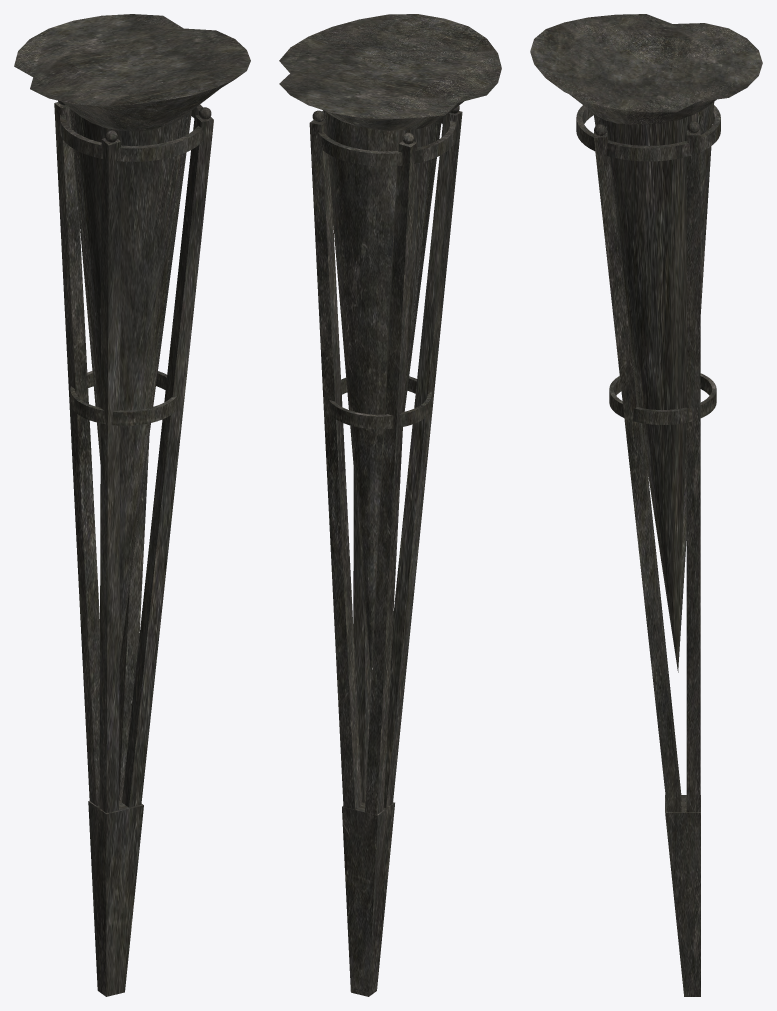
Rendered from Tourch 1.FBX.
3 views of the same model, side by side, from view 1: azimuth 30°, elevation 25°; view 2: azimuth 150°, elevation 25°; view 3: azimuth 270°, elevation 25° (orthographic). The views are drawn at different scales.
Visible parts, largest first — view 1: torch 1; view 2: torch 1; view 3: torch 1.
Boxes of the visible parts, box(x1,y1,x2,y2) form: torch 1: box(14, 14, 250, 996); torch 1: box(279, 14, 501, 996); torch 1: box(530, 14, 762, 996).
Size of the model in its own units: 9.82 by 43.76 by 9.82.
1 material, 1 textured.
